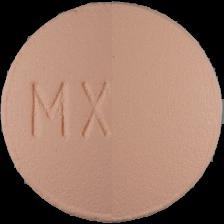0378-6231: (0, 0, 224, 224)
